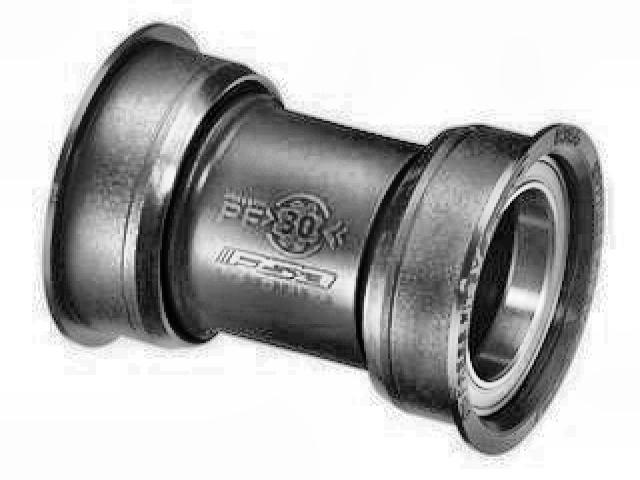bottom_bracket: (38, 20, 607, 457)
